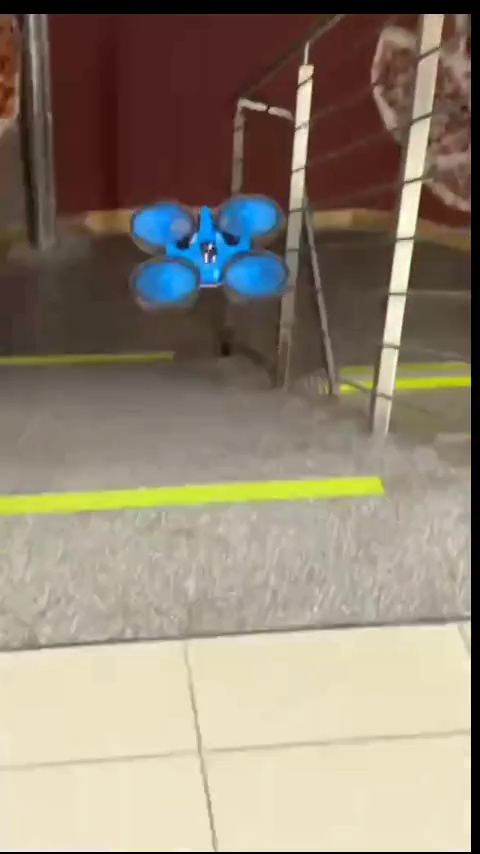drone: (124, 202, 287, 308)
